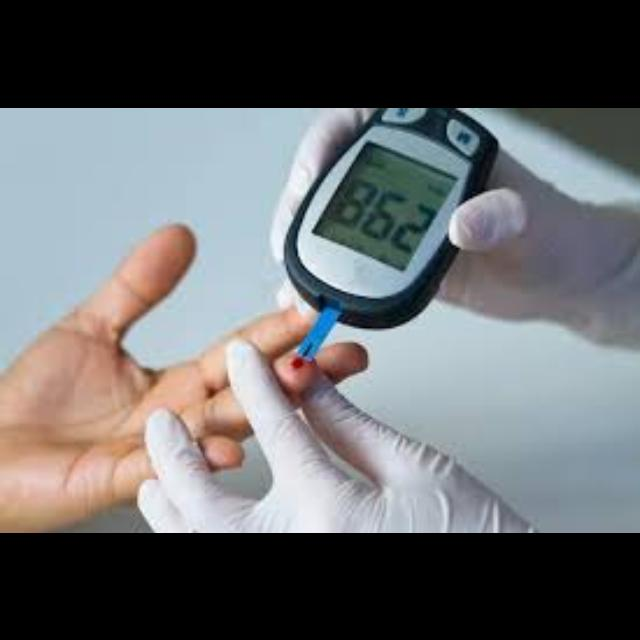Glucose-Meter: (284, 107, 497, 359)
